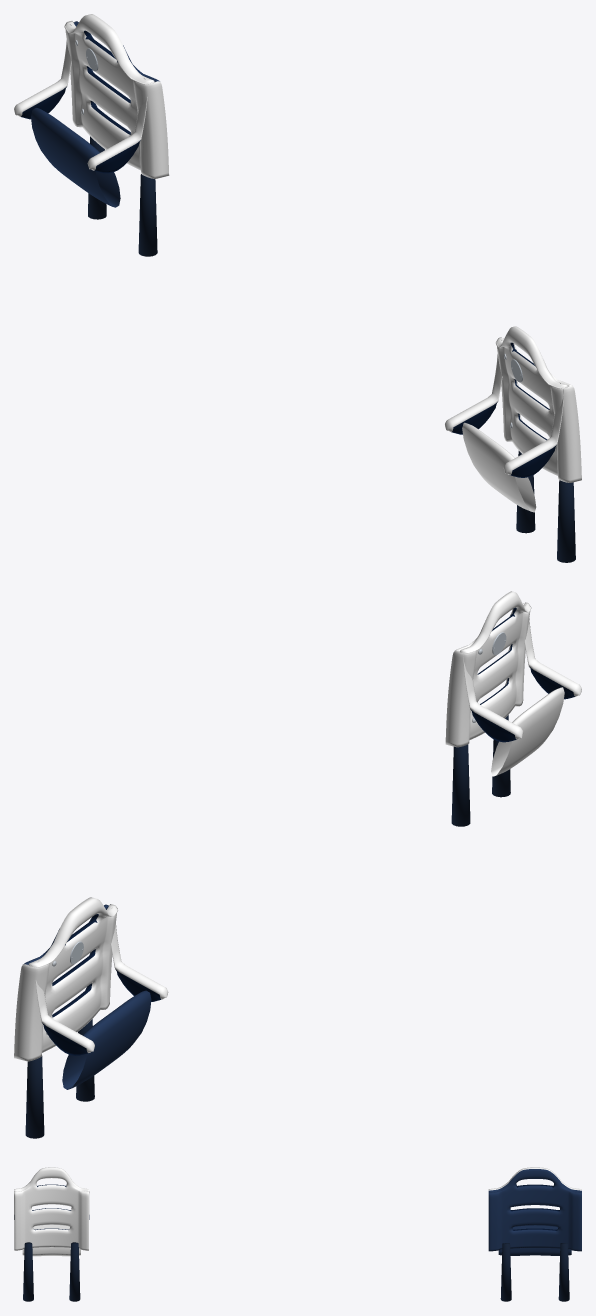
File: stadiumx_seat_lods.glb
The picture shows the model from 3 angles, top to bottom: view 1: azimuth 30°, elevation 25°; view 2: azimuth 150°, elevation 25°; view 3: azimuth 270°, elevation 25°; orthographic projection. The views are drawn at different scales.
Parts seen in each view (by area): view 1: SEAT_VIP_LOD0, SEAT_STD_LOD0; view 2: SEAT_VIP_LOD0, SEAT_STD_LOD0; view 3: SEAT_VIP_LOD0, SEAT_STD_LOD0.
Part boxes in pixels (x1=…): SEAT_VIP_LOD0: x1=14, y1=14, x2=169, y2=256; SEAT_STD_LOD0: x1=445, y1=326, x2=581, y2=562; SEAT_VIP_LOD0: x1=14, y1=897, x2=168, y2=1138; SEAT_STD_LOD0: x1=445, y1=591, x2=581, y2=826; SEAT_VIP_LOD0: x1=488, y1=1167, x2=581, y2=1301; SEAT_STD_LOD0: x1=14, y1=1167, x2=89, y2=1301.
Size of what is drawn, in the model's own units: 0.3201 by 0.855 by 3.52.
